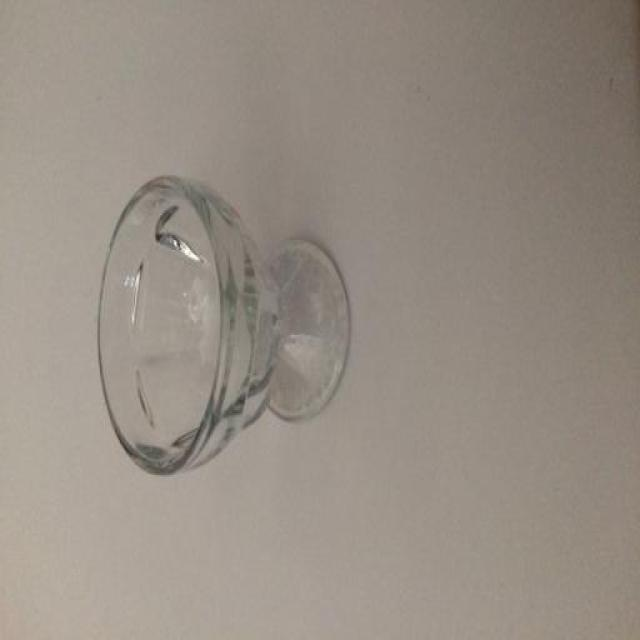glass: (95, 148, 375, 486)
